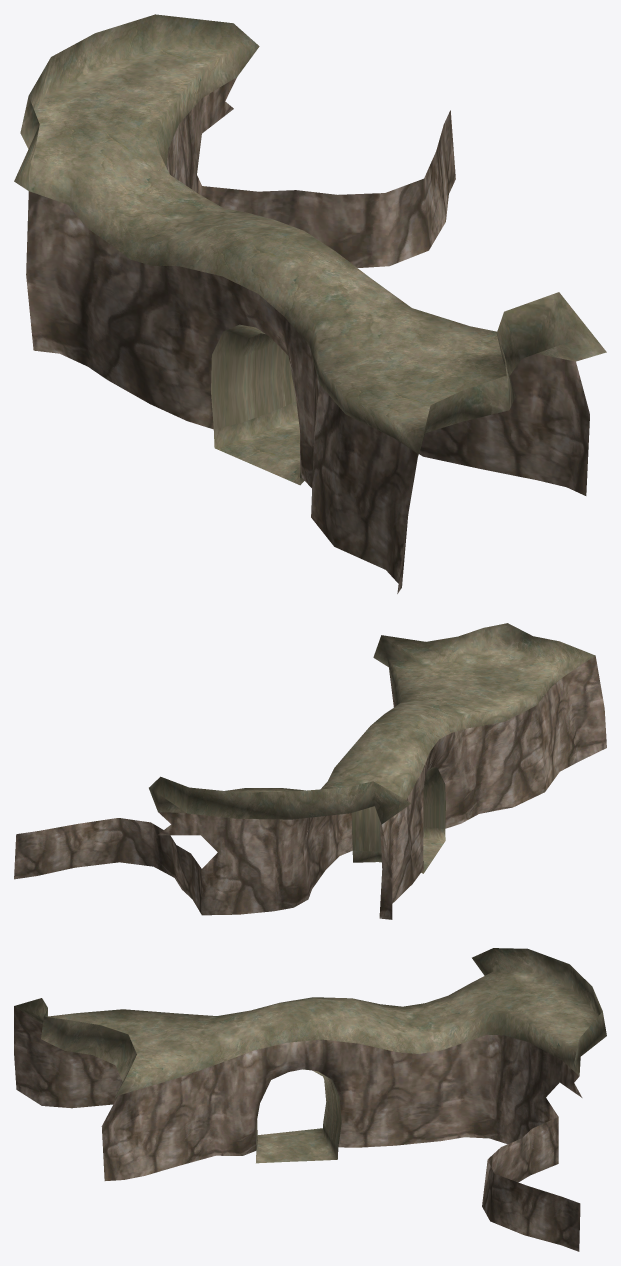
Rendered from EKH_CAVERNS_PS_CA_LAND_BRIDGE_3837__GX.fbx.
3 renders of one model, top to bottom at view 1: azimuth 30°, elevation 25°; view 2: azimuth 150°, elevation 25°; view 3: azimuth 270°, elevation 25°, orthographic. The views are drawn at different scales.
Parts seen in each view (by area): view 1: EKH_CAVERNS_PS_CA_LAND_BRIDGE_3837__GX; view 2: EKH_CAVERNS_PS_CA_LAND_BRIDGE_3837__GX; view 3: EKH_CAVERNS_PS_CA_LAND_BRIDGE_3837__GX.
Part boxes in pixels (<box>): EKH_CAVERNS_PS_CA_LAND_BRIDGE_3837__GX: <box>14,14,606,593</box>; EKH_CAVERNS_PS_CA_LAND_BRIDGE_3837__GX: <box>14,623,606,919</box>; EKH_CAVERNS_PS_CA_LAND_BRIDGE_3837__GX: <box>14,948,606,1251</box>.
Size of the model in its own units: 130638 by 60578 by 191611.
2 materials, 2 textured.
